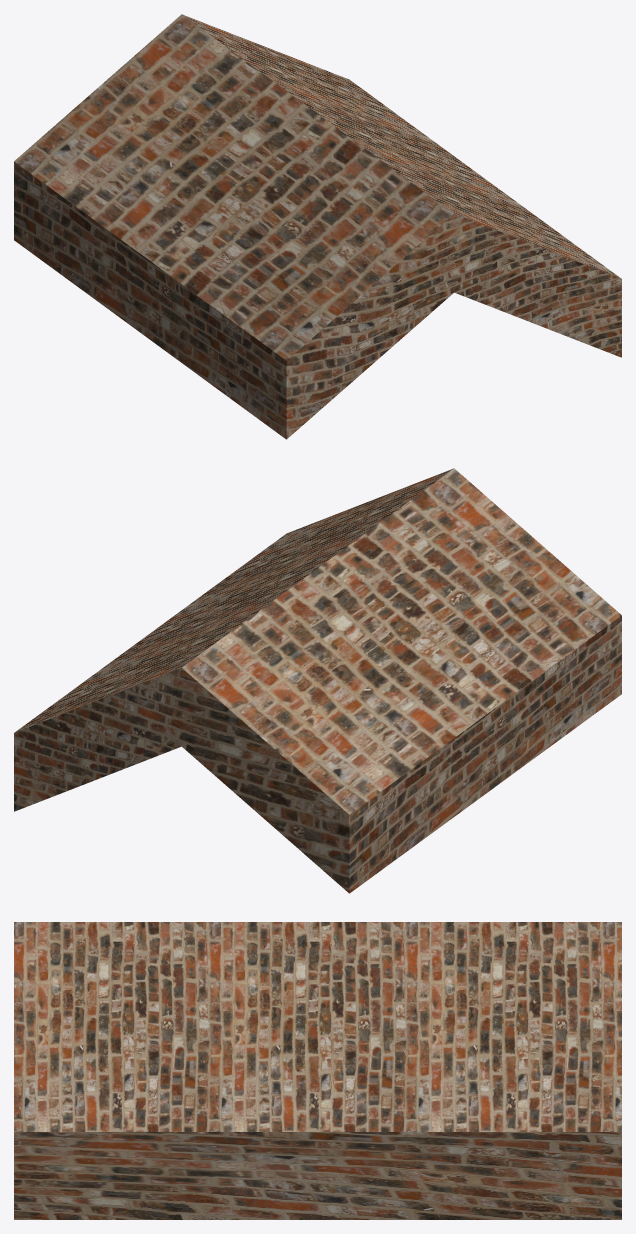
File: Roof.fbx
3 views of the same model, one above another, from view 1: azimuth 30°, elevation 25°; view 2: azimuth 150°, elevation 25°; view 3: azimuth 270°, elevation 25° (orthographic). The views are drawn at different scales.
Visible parts, largest first — view 1: polySurface129; view 2: polySurface129; view 3: polySurface129.
Part boxes in pixels (x1,y1,x2,y2): polySurface129: (14,14,621,439); polySurface129: (14,468,621,893); polySurface129: (14,922,621,1219).
Bounding box in the file's own units: 10.2 × 5.38 × 14.35.
Materials: 1 (1 with a texture image).
